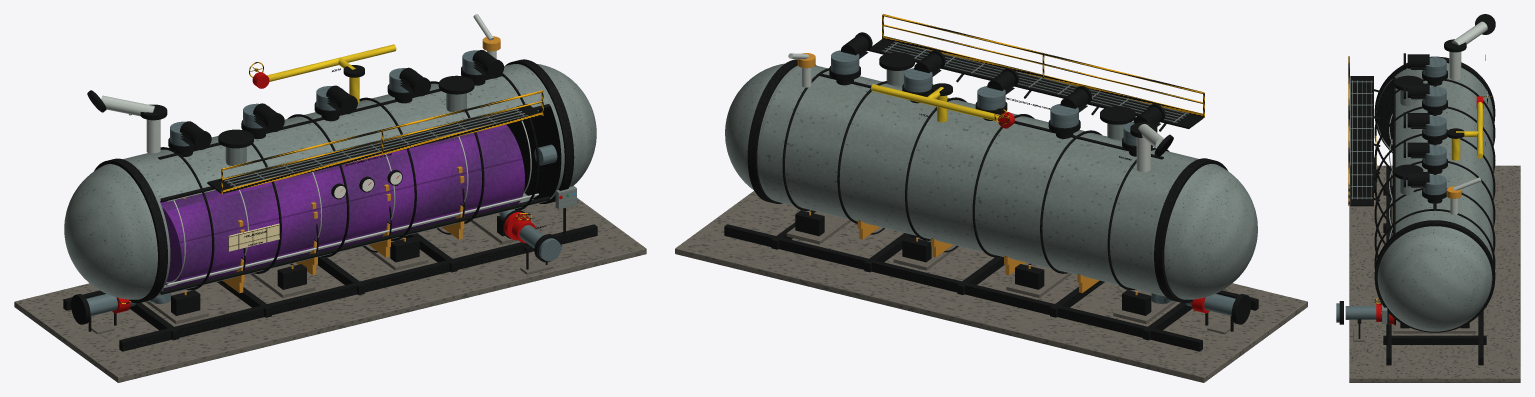
File: level7_autoclave_industrial_uv.fbx
3 renders of one model, left to right at view 1: azimuth 30°, elevation 25°; view 2: azimuth 150°, elevation 25°; view 3: azimuth 270°, elevation 25°, orthographic. The views are drawn at different scales.
Visible parts, largest first — view 1: L7_Autoclave_Concrete_ServicePad, L7_XRay_InnerSlurry_Surface, L7_Autoclave_PressureShell, L7_Autoclave_EndCap_Left, L7_Skid_Longitudinal_IBeam_-1.7, L7_Autoclave_Right_HeavyFlange, L7_Autoclave_EndCap_Right, L7_TopDrive_ServicePlatform_Grating_Frame, L7_Autoclave_Left_HeavyFlange, L7_Cutaway_ThickWall_Lip_01, L7_XRay_OpenLiquidCutFace, L7_TopDrive_ServicePlatform_OuterRail_ToeBoard (+20 smaller); view 2: L7_Autoclave_PressureShell, L7_Autoclave_Concrete_ServicePad, L7_Autoclave_EndCap_Left, L7_Skid_Longitudinal_IBeam_+1.7, L7_Autoclave_EndCap_Right, L7_TopDrive_ServicePlatform_Grating_Frame, L7_Autoclave_Left_HeavyFlange, L7_Autoclave_Right_HeavyFlange, L7_TopDrive_ServicePlatform_OuterRail_ToeBoard, Pipe_Autoclave_AcidInject_Header, L7_TopDrive_ServicePlatform_OuterRail_TopRail, L7_Saddle_GroutPad_+5.8 (+19 smaller); view 3: L7_Autoclave_Concrete_ServicePad, L7_Autoclave_EndCap_Right, L7_Autoclave_PressureShell, L7_TopDrive_ServicePlatform_Grating_Frame, L7_Autoclave_Right_HeavyFlange, L7_Autoclave_Left_HeavyFlange, L7_Skid_Cross_IBeam_+6.6, L7_Cutaway_ThickWall_Lip_00, L7_Skid_Longitudinal_IBeam_-1.7, L7_Saddle_GroutPad_+5.8, L7_Autoclave_Dark_StiffenerBand_05, Pipe_Autoclave_LiquidUnderflow_ToTransfer (+25 smaller).
Boxes of the visible parts, left/top/right/bottom form: L7_Autoclave_Concrete_ServicePad: left=14, top=198, right=646, bottom=382; L7_XRay_InnerSlurry_Surface: left=160, top=124, right=524, bottom=289; L7_Autoclave_PressureShell: left=123, top=64, right=550, bottom=296; L7_Autoclave_EndCap_Left: left=64, top=160, right=170, bottom=299; L7_Skid_Longitudinal_IBeam_-1.7: left=119, top=224, right=597, bottom=351; L7_Autoclave_Right_HeavyFlange: left=505, top=59, right=574, bottom=203; L7_Autoclave_EndCap_Right: left=511, top=64, right=596, bottom=201; L7_TopDrive_ServicePlatform_Grating_Frame: left=207, top=104, right=539, bottom=193; L7_Autoclave_Left_HeavyFlange: left=94, top=158, right=167, bottom=303; L7_Cutaway_ThickWall_Lip_01: left=160, top=196, right=549, bottom=294; L7_XRay_OpenLiquidCutFace: left=180, top=158, right=521, bottom=280; L7_TopDrive_ServicePlatform_OuterRail_ToeBoard: left=223, top=112, right=542, bottom=193; L7_Autoclave_PressureShell: left=760, top=65, right=1198, bottom=296; L7_Autoclave_Concrete_ServicePad: left=675, top=191, right=1307, bottom=382; L7_Autoclave_EndCap_Left: left=1151, top=160, right=1257, bottom=299; L7_Skid_Longitudinal_IBeam_+1.7: left=724, top=224, right=1202, bottom=351; L7_Autoclave_EndCap_Right: left=725, top=63, right=799, bottom=201; L7_TopDrive_ServicePlatform_Grating_Frame: left=868, top=39, right=1203, bottom=128; L7_Autoclave_Left_HeavyFlange: left=1154, top=158, right=1228, bottom=303; L7_Autoclave_Right_HeavyFlange: left=747, top=59, right=816, bottom=203; L7_TopDrive_ServicePlatform_OuterRail_ToeBoard: left=883, top=36, right=1202, bottom=116; Pipe_Autoclave_AcidInject_Header: left=871, top=84, right=1000, bottom=121; L7_TopDrive_ServicePlatform_OuterRail_TopRail: left=882, top=14, right=1204, bottom=93; L7_Saddle_GroutPad_+5.8: left=786, top=211, right=851, bottom=244; L7_Autoclave_Concrete_ServicePad: left=1349, top=165, right=1520, bottom=382; L7_Autoclave_EndCap_Right: left=1377, top=226, right=1492, bottom=331; L7_Autoclave_PressureShell: left=1395, top=64, right=1493, bottom=259; L7_TopDrive_ServicePlatform_Grating_Frame: left=1350, top=76, right=1373, bottom=206; L7_Autoclave_Right_HeavyFlange: left=1374, top=220, right=1495, bottom=332; L7_Autoclave_Left_HeavyFlange: left=1374, top=56, right=1495, bottom=152; L7_Skid_Cross_IBeam_+6.6: left=1383, top=335, right=1486, bottom=344; L7_Cutaway_ThickWall_Lip_00: left=1392, top=77, right=1395, bottom=235; L7_Skid_Longitudinal_IBeam_-1.7: left=1386, top=166, right=1391, bottom=365; L7_Saddle_GroutPad_+5.8: left=1393, top=318, right=1476, bottom=333; L7_Autoclave_Dark_StiffenerBand_05: left=1374, top=209, right=1495, bottom=268; Pipe_Autoclave_LiquidUnderflow_ToTransfer: left=1345, top=306, right=1376, bottom=319.
Size of the model in its own units: 1880 by 739 by 688.
1 material, 1 textured.
